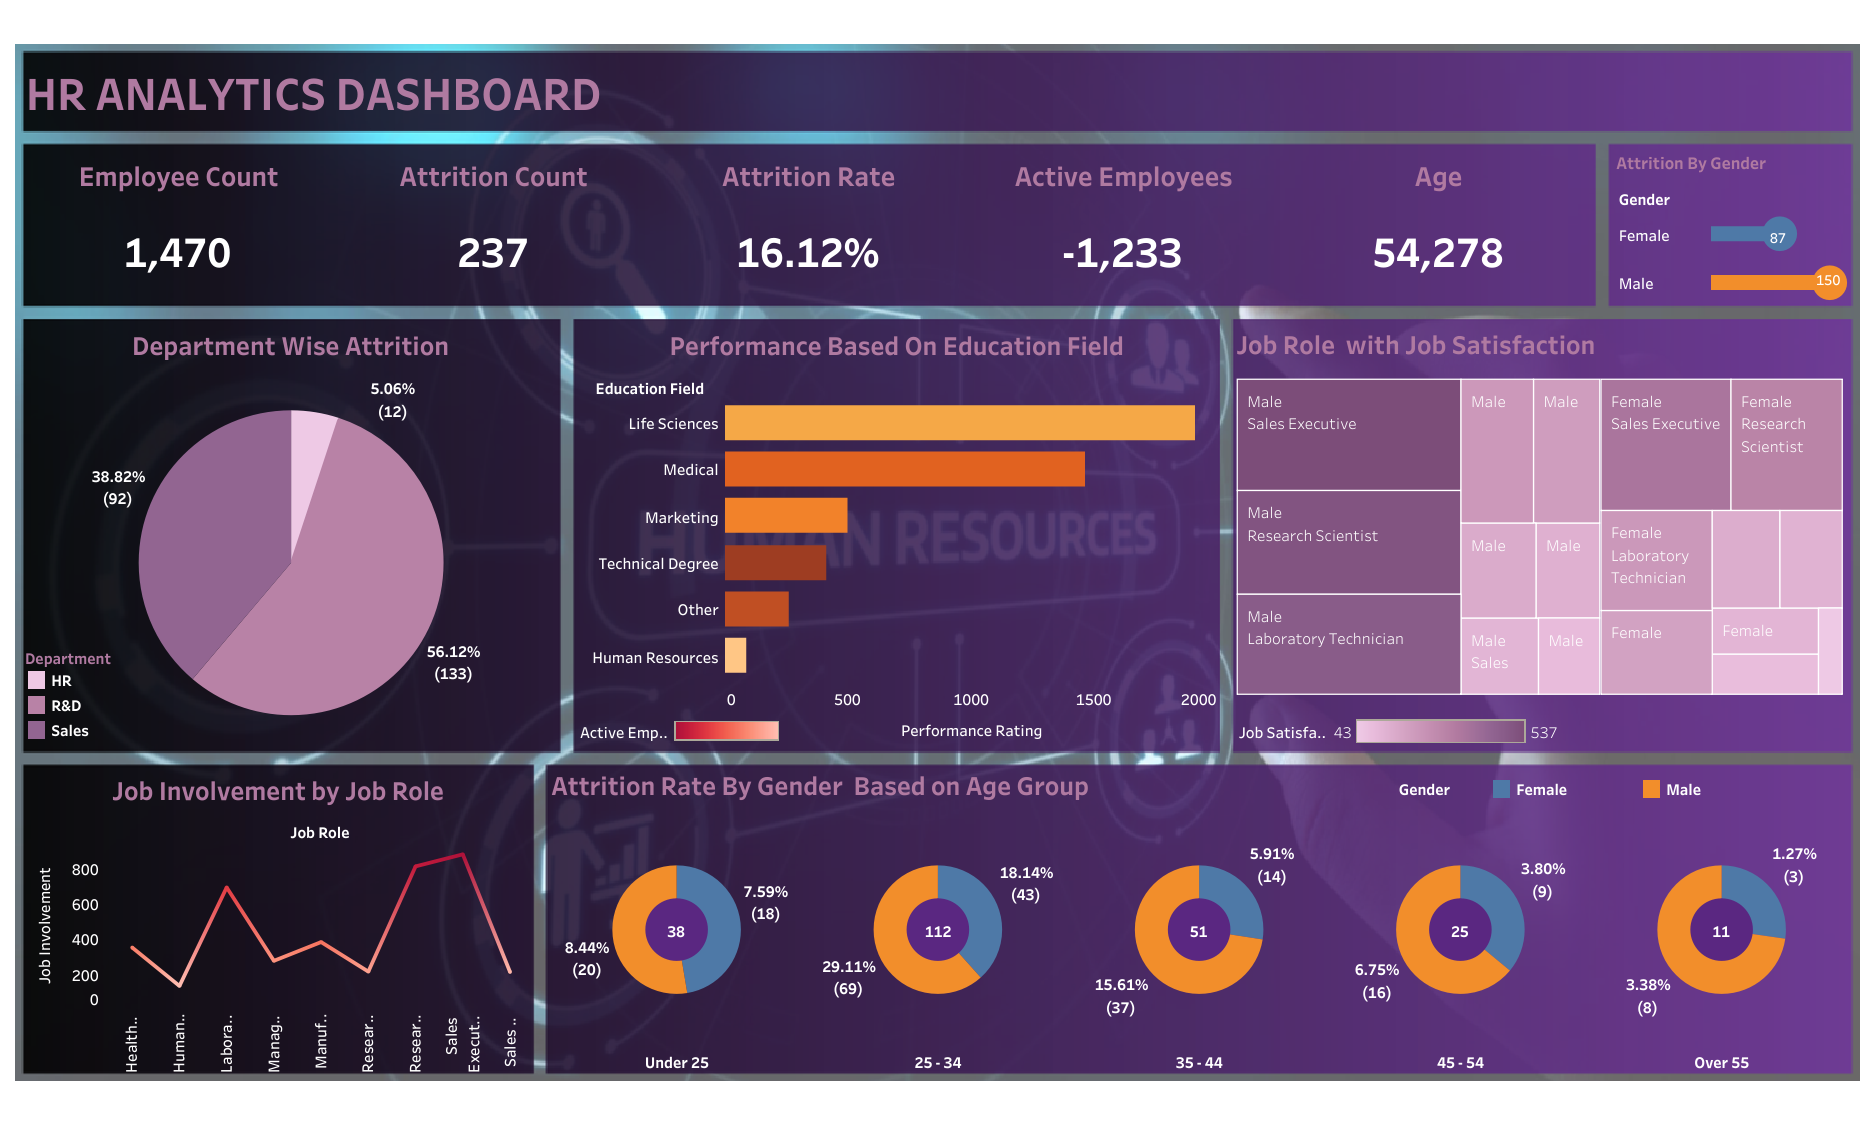

The dashboard page shown, as its layout file describes it:
{"tool":"tableau","page":{"name":"HR ANALYTICS DASHBOARD","canvas":[1500,900],"ordinal":0},"visuals":[{"type":"image","param":"Image/HR background.pptx.png","box":[8,8,1484,884]},{"type":"text","box":[18,42,795,62]},{"type":"worksheet","title":"Attrition By Gender","mark":"Automatic","rows":["Gender"],"cols":["Calculation_989103074082078720","Calculation_989103074082078720"],"box":[1289,114,194,131]},{"type":"worksheet","title":"KPI","mark":"Automatic","box":[17,115,1260,130]},{"type":"worksheet","title":"Job Role  with Job Satisfaction","mark":"Automatic","box":[985,255,494,346]},{"type":"worksheet","title":"Department Wise Attrition","mark":"Pie","box":[18,256,429,345]},{"type":"worksheet","title":"Performance Based On Education Field ","mark":"Automatic","rows":["Education Field"],"cols":["Performance Rating"],"box":[460,256,515,344]},{"type":"legend","title":"Department Wise Attrition","param":"[federated.0cbfuso1dmpbzx121u2iz0rx1bpc].[none:Department:nk]","box":[19,515,140,85]},{"type":"legend","title":"Job Role  with Job Satisfaction","param":"[federated.0cbfuso1dmpbzx121u2iz0rx1bpc].[sum:Job Satisfaction:qk]","box":[991,572,260,26]},{"type":"legend","title":"Job Involvement by Job Role","param":"[federated.0cbfuso1dmpbzx121u2iz0rx1bpc].[usr:Calculation_989103074083483650:qk]","box":[464,573,164,26]},{"type":"worksheet","title":"Attrition Rate By Gender  Based on Age Group","mark":"Pie","rows":["Calculation_287104482384453634","Calculation_287104482384453634"],"cols":["CF_age band"],"box":[437,608,1045,250]},{"type":"worksheet","title":"Job Involvement by Job Role","mark":"Line","rows":["Job Involvement"],"cols":["Job Role"],"box":[19,612,407,247]},{"type":"legend","title":"Attrition Rate By Gender  Based on Age Group","param":"[federated.0cbfuso1dmpbzx121u2iz0rx1bpc].[none:Gender:nk]","box":[1119,621,357,33]}]}

Visuals, with their boxes in screenshot pixels (x1, y1, x2, y2), scaled from the page's 1500x900 canvas onto the 1874x1124 screenshot:
image: (x1=10, y1=10, x2=1864, y2=1114)
text: (x1=22, y1=52, x2=1016, y2=130)
"Attrition By Gender" worksheet: (x1=1610, y1=142, x2=1853, y2=306)
"KPI" worksheet: (x1=21, y1=144, x2=1595, y2=306)
"Job Role  with Job Satisfaction" worksheet: (x1=1231, y1=318, x2=1848, y2=751)
"Department Wise Attrition" worksheet (Pie marks): (x1=22, y1=320, x2=558, y2=751)
"Performance Based On Education Field " worksheet: (x1=575, y1=320, x2=1218, y2=749)
"Department Wise Attrition" legend: (x1=24, y1=643, x2=199, y2=749)
"Job Role  with Job Satisfaction" legend: (x1=1238, y1=714, x2=1563, y2=747)
"Job Involvement by Job Role" legend: (x1=580, y1=716, x2=785, y2=748)
"Attrition Rate By Gender  Based on Age Group" worksheet (Pie marks): (x1=546, y1=759, x2=1852, y2=1072)
"Job Involvement by Job Role" worksheet (Line marks): (x1=24, y1=764, x2=532, y2=1073)
"Attrition Rate By Gender  Based on Age Group" legend: (x1=1398, y1=776, x2=1844, y2=817)
